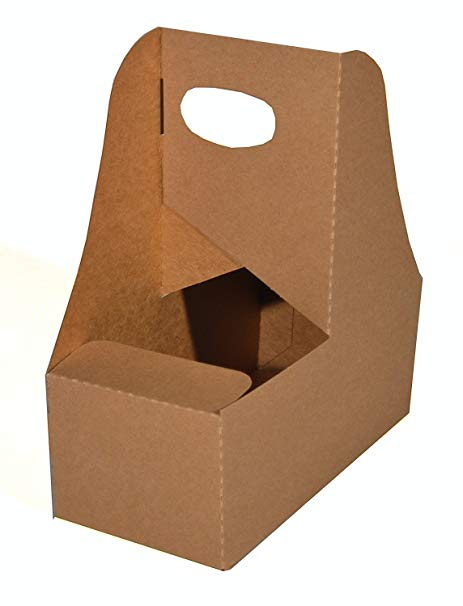Rec_Paper: (42, 18, 399, 569)
